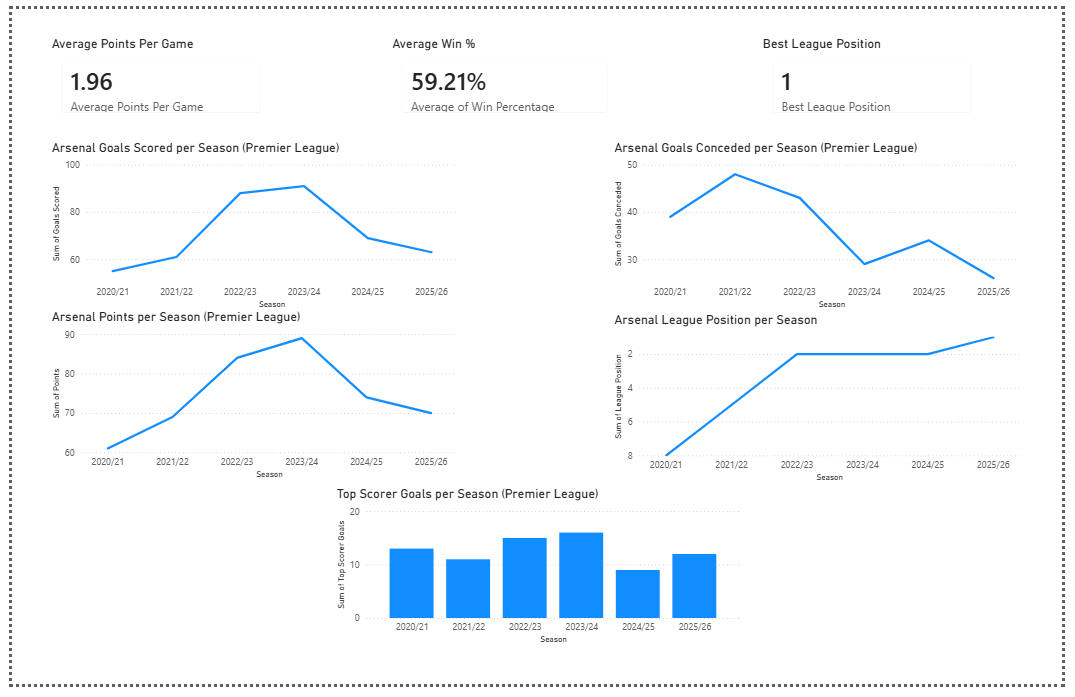

Layout of this report page (visuals, bound fields, positions):
{"tool":"powerbi","page":{"name":"Page 1","canvas":[1400,900],"ordinal":0},"visuals":[{"type":"lineChart","title":"Arsenal Goals Scored per Season (Premier League)","fields":{"Category":["Table1.Season "],"Y":["Sum(Table1.Goals Scored )"]},"box":[47.5,225,550,230],"z":0},{"type":"lineChart","title":"Arsenal Goals Conceded per Season (Premier League)","fields":{"Category":["Table1.Season "],"Y":["Sum(Table1.Goals Conceded )"]},"box":[797.5,225,550,230],"z":1000},{"type":"lineChart","title":"Arsenal Points per Season (Premier League)","fields":{"Category":["Table1.Season "],"Y":["Sum(Table1.Points)"]},"box":[47.5,450,550,230],"z":2000},{"type":"lineChart","title":"Arsenal League Position per Season","fields":{"Category":["Table1.Season "],"Y":["Sum(Table1.League Position )"]},"box":[797.5,455,550,230],"z":3000},{"type":"cardVisual","title":"Average Points Per Game","fields":{"Data":["Avg(Table1.Points Per Game )"]},"box":[47.5,87.5,300,120],"z":4000},{"type":"cardVisual","title":"Average Win %","fields":{"Data":["Avg(Table1.Win Percentage)"]},"box":[500.3,87.3,309.3,120.1],"z":5000},{"type":"cardVisual","title":"Best League Position","fields":{"Data":["Min(Table1.League Position )"]},"box":[995.2,87.3,300.2,120.1],"z":6000},{"type":"clusteredColumnChart","title":"Top Scorer Goals per Season (Premier League)","fields":{"Category":["Table1.Season "],"Y":["Sum(Table1.Top Scorer Goals)"]},"box":[425.8,685.9,547.7,214.7],"z":7000},{"type":"textbox","box":[2.5,0,1397.5,70],"z":8000}]}

Visuals, with their boxes in screenshot pixels (x1, y1, x2, y2), scaled from the page's 1400x900 canvas onto the 1075x697 screenshot:
"Arsenal Goals Scored per Season (Premier League)" lineChart: left=36, top=174, right=459, bottom=352
"Arsenal Goals Conceded per Season (Premier League)" lineChart: left=612, top=174, right=1035, bottom=352
"Arsenal Points per Season (Premier League)" lineChart: left=36, top=348, right=459, bottom=527
"Arsenal League Position per Season" lineChart: left=612, top=352, right=1035, bottom=530
"Average Points Per Game" cardVisual: left=36, top=68, right=267, bottom=161
"Average Win %" cardVisual: left=384, top=68, right=622, bottom=161
"Best League Position" cardVisual: left=764, top=68, right=995, bottom=161
"Top Scorer Goals per Season (Premier League)" clusteredColumnChart: left=327, top=531, right=748, bottom=696
textbox: left=2, top=0, right=1074, bottom=54
